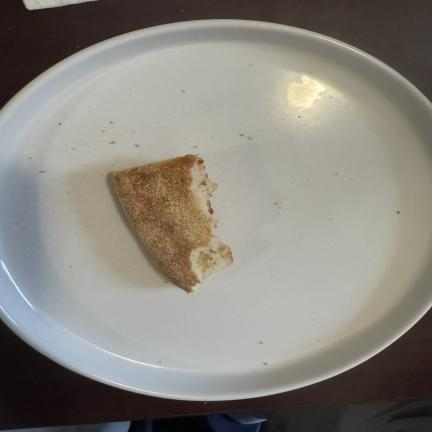pizza: (102, 142, 266, 301)
